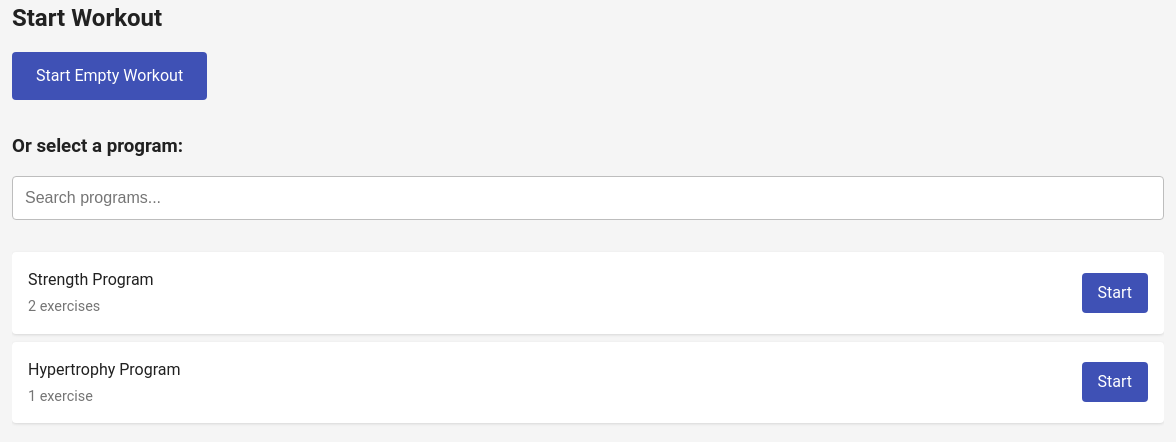
Scenario: WorkoutStartScreen › filters programs based on search input
Type "hyper" into the field with placeholder "Search programs..." at (588, 198), box [12,176,1164,220]
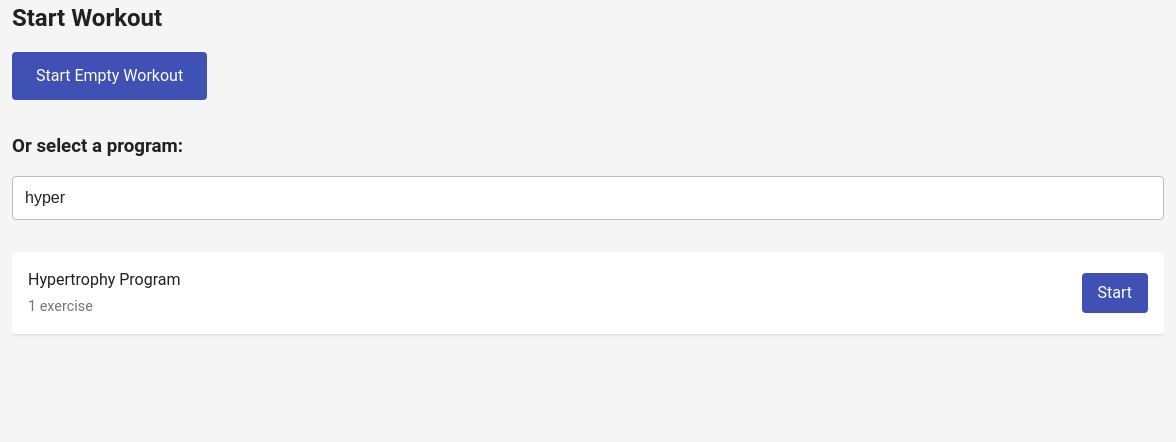
Expected: the text "Hypertrophy Program" is shown, [28,270,180,289]
Expected: the text "Strength Program" is gone
